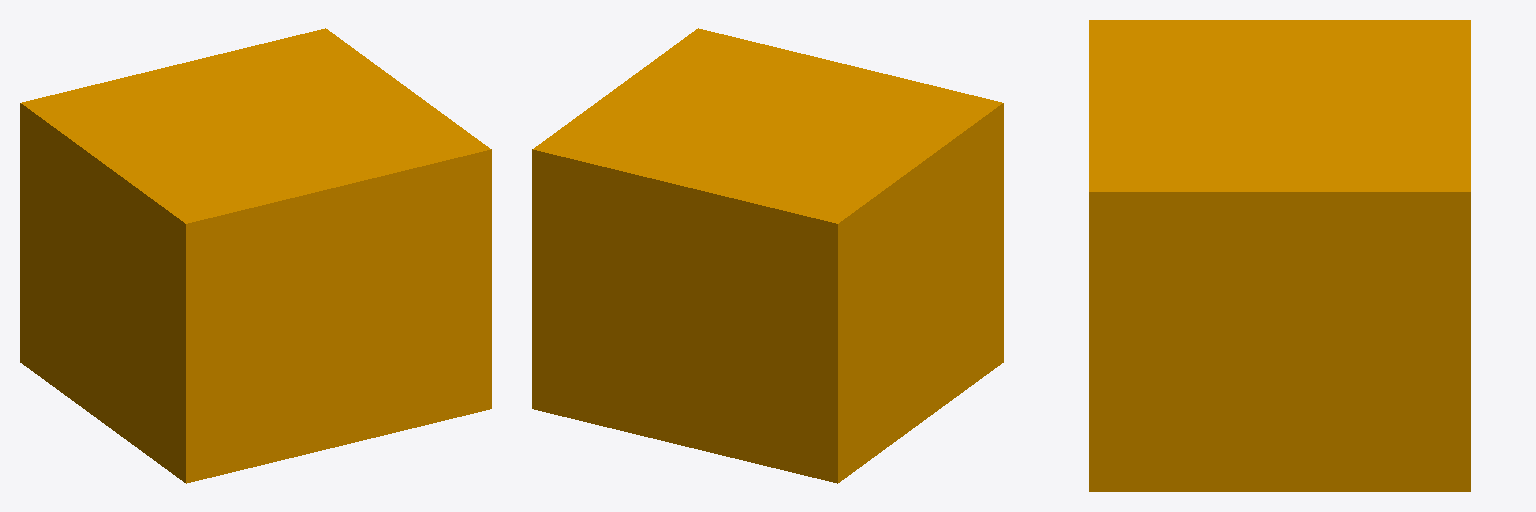
URDF robot description (object):
<?xml version="1.0"?>
<!-- Auto-generated by tools/gen_primitive_objects.py. kind=box dims=(0.074868, 0.070266, 0.060829) -->
<robot name="object">
  <link name="object">
    <visual>
      <origin xyz="0 0 0"/>
      <geometry>
        <box size="0.074868 0.070266 0.060829"/>
      </geometry>
    </visual>
    <collision>
      <origin xyz="0 0 0"/>
      <geometry>
        <box size="0.074868 0.070266 0.060829"/>
      </geometry>
    </collision>
    <inertial>
      <mass value="0.064000"/>
      <inertia ixx="0.00004607" ixy="0.0" ixz="0.0" iyy="0.00004963" iyz="0.0" izz="0.00005623"/>
    </inertial>
  </link>
</robot>

--- Facts derived from the render (not from the file) ---
3 views of the same robot in one strip: view 1: azimuth 30°, elevation 25°; view 2: azimuth 150°, elevation 25°; view 3: azimuth 270°, elevation 25° (orthographic).
Robot: object — 1 links, 0 joints (none); root link object; default pose: every joint at zero.
Links seen in each view (by area): view 1: object; view 2: object; view 3: object.
Link boxes in pixels (x1,y1,x2,y2): object: (20,28,491,483); object: (532,28,1003,483); object: (1089,20,1470,491).
Size in the robot's own frame: 0.0749 by 0.0703 by 0.0608 metres.
Geometry: primitives only (box / cylinder / sphere), no mesh files.
